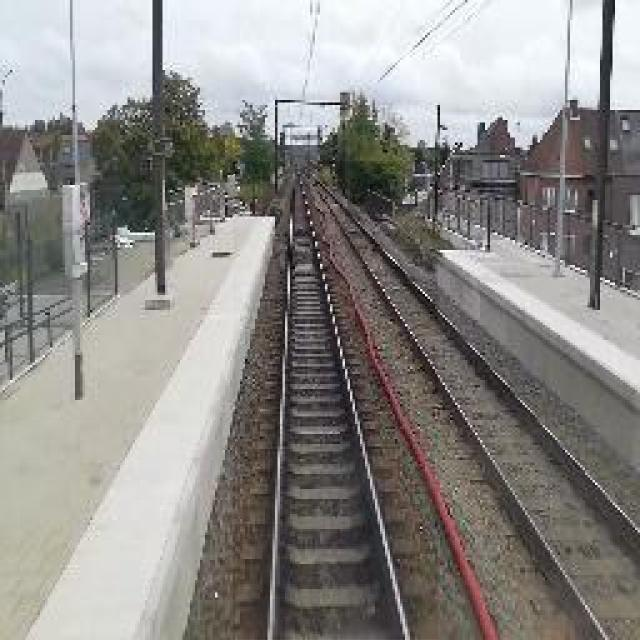rail: (234, 162, 439, 640)
